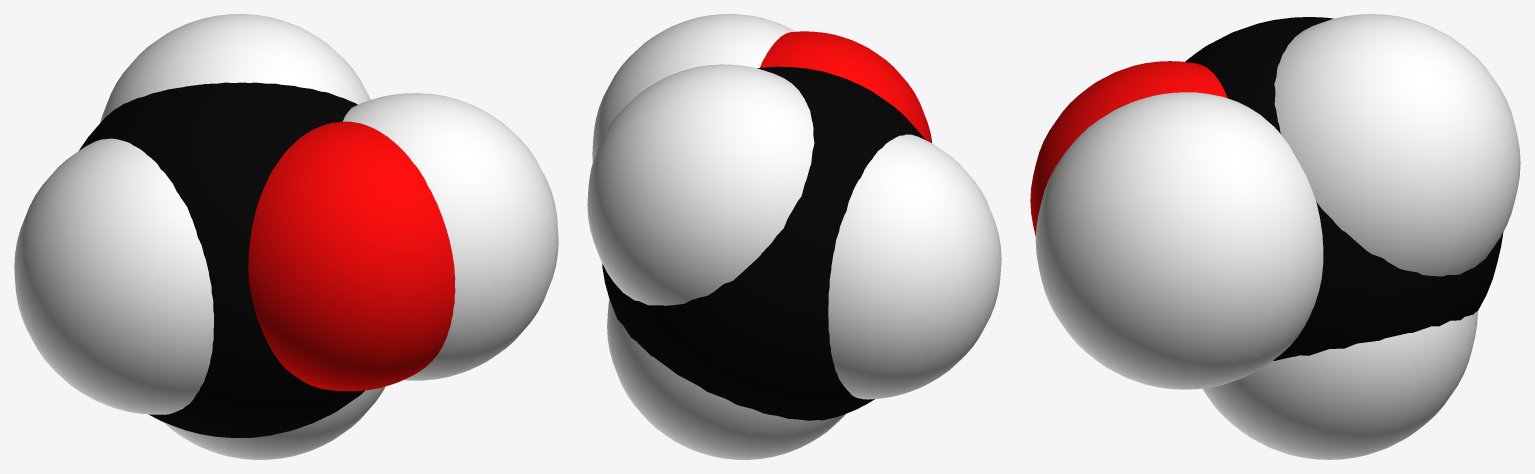
File: metanol.obj
3 renders of one model, left to right at view 1: azimuth 30°, elevation 25°; view 2: azimuth 150°, elevation 25°; view 3: azimuth 270°, elevation 25°, orthographic. The views are drawn at different scales.
Visible parts, largest first — view 1: Hydrogen_ball, Oxygen_ball, Carbon_ball; view 2: Hydrogen_ball, Carbon_ball, Oxygen_ball; view 3: Hydrogen_ball, Carbon_ball, Oxygen_ball.
Boxes of the visible parts, x1,y1,x2,y2 form: Hydrogen_ball: [14, 14, 558, 459]; Oxygen_ball: [248, 121, 455, 391]; Carbon_ball: [79, 82, 365, 437]; Hydrogen_ball: [587, 14, 1001, 459]; Carbon_ball: [602, 66, 925, 420]; Oxygen_ball: [760, 31, 932, 142]; Hydrogen_ball: [1035, 14, 1520, 459]; Carbon_ball: [1185, 17, 1503, 360]; Oxygen_ball: [1030, 61, 1227, 236].
Bounding box in the file's own units: 2.5 × 2.15 × 2.28.
